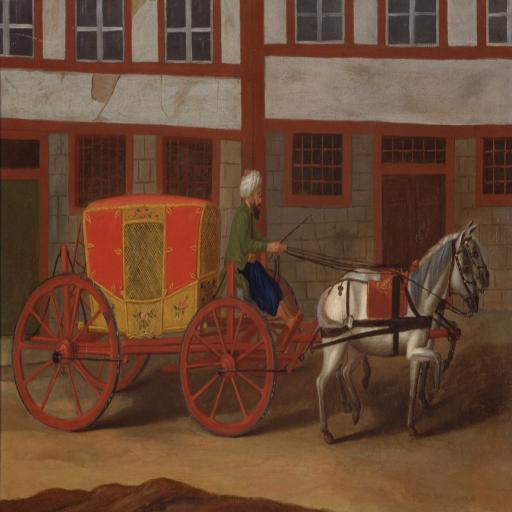horse: (316, 227, 480, 447), (338, 218, 492, 414)
